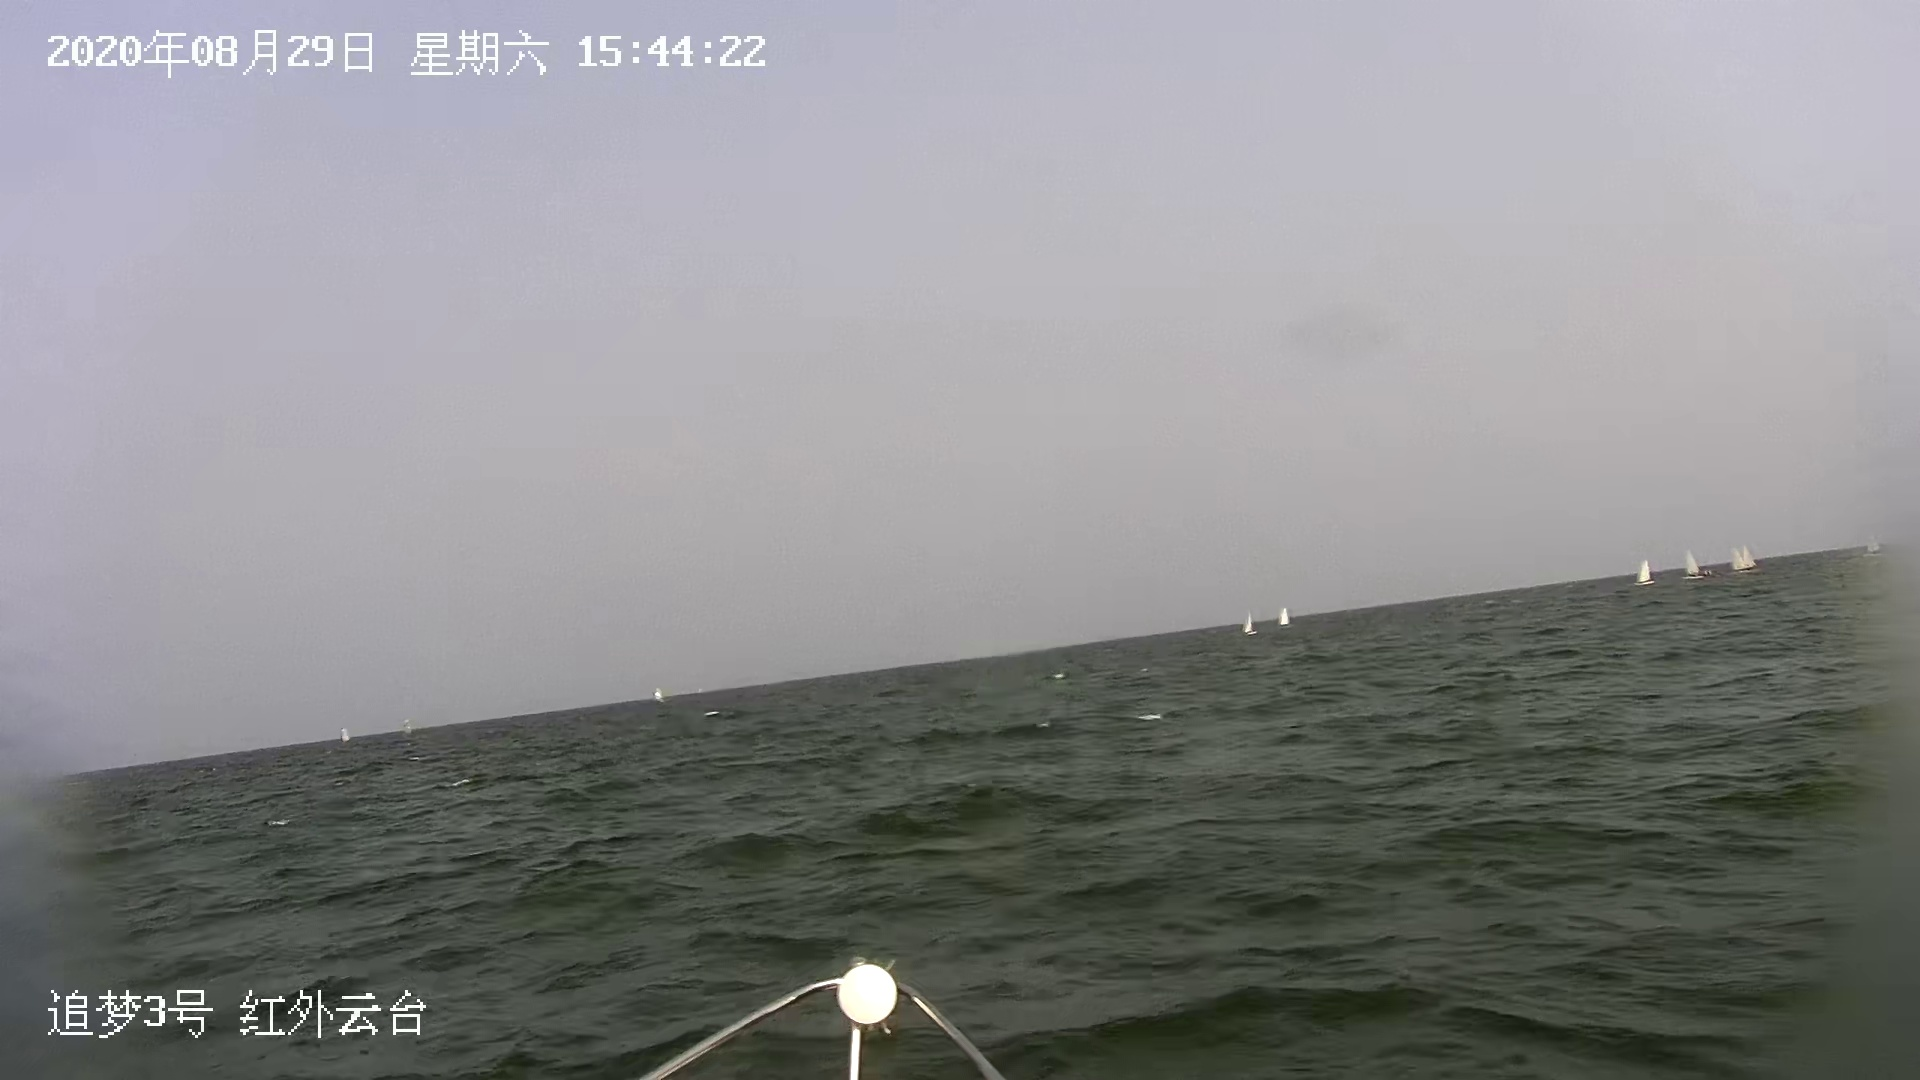barrier: (1685, 545, 1712, 580), (1237, 604, 1265, 637), (1730, 545, 1759, 574), (1634, 556, 1655, 588), (1865, 537, 1884, 559), (651, 688, 669, 709), (1278, 607, 1294, 629), (405, 717, 415, 738), (339, 729, 351, 746)
